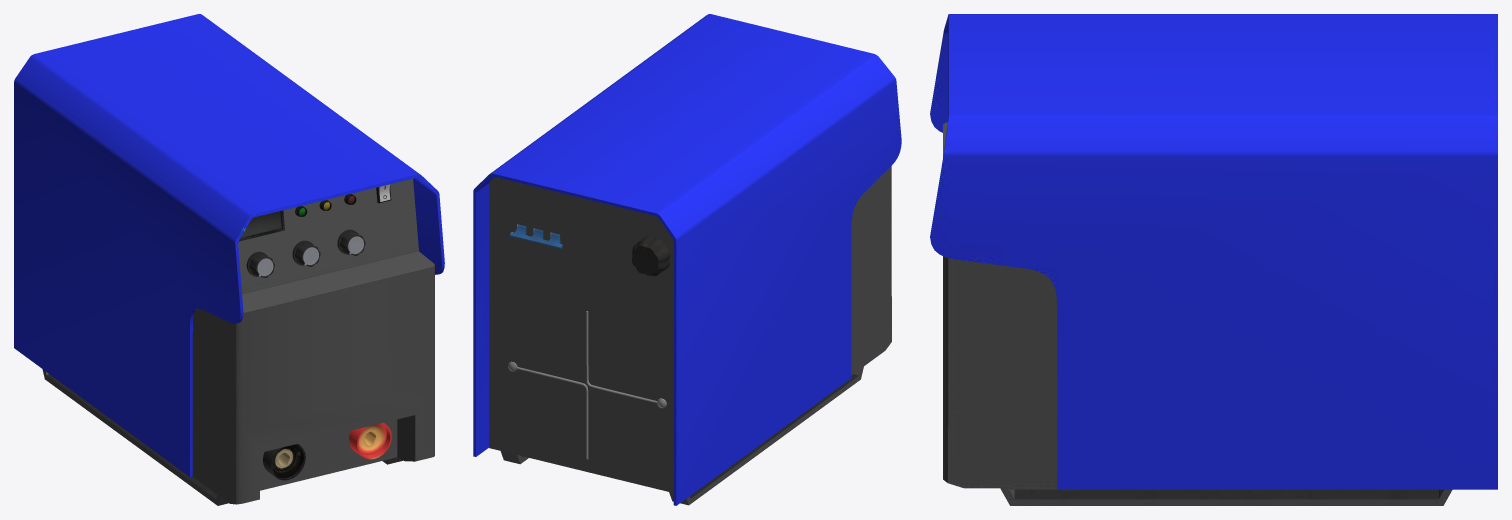
Rendered from welding_machine_blue.glb.
The picture shows the model from 3 angles, left to right: view 1: azimuth 30°, elevation 25°; view 2: azimuth 150°, elevation 25°; view 3: azimuth 270°, elevation 25°; orthographic projection. The views are drawn at different scales.
Visible parts, largest first — view 1: case_low, body_low, connectors_low, rack_low, tumblersfronf_low, caseonoff_low; view 2: case_low, body_low, rack_low, socket_low, fastening_low; view 3: case_low, body_low, rack_low.
Boxes of the visible parts, bbox=[...] form: case_low: bbox=[14, 14, 444, 476]; body_low: bbox=[192, 178, 434, 504]; connectors_low: bbox=[263, 422, 391, 480]; rack_low: bbox=[42, 369, 402, 505]; tumblersfronf_low: bbox=[246, 229, 365, 277]; caseonoff_low: bbox=[239, 186, 391, 241]; case_low: bbox=[473, 14, 901, 505]; body_low: bbox=[489, 166, 891, 492]; rack_low: bbox=[500, 366, 863, 505]; socket_low: bbox=[631, 236, 670, 276]; fastening_low: bbox=[508, 311, 666, 459]; case_low: bbox=[930, 14, 1497, 489]; body_low: bbox=[943, 122, 1057, 488]; rack_low: bbox=[1000, 488, 1452, 505].
Size of the model in its own units: 0.269 by 0.386 by 0.5169.
2 materials, 2 textured.
